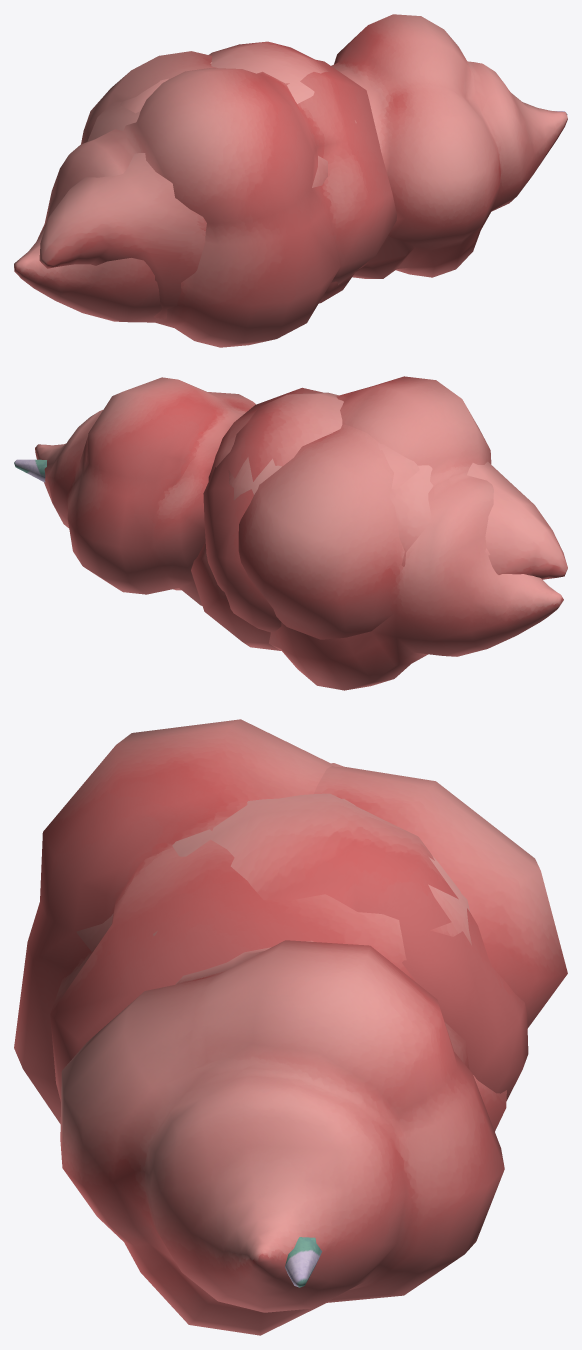
Rendered from stg1_cottoncloud.gltf.
3 views of the same model, one above another, from view 1: azimuth 30°, elevation 25°; view 2: azimuth 150°, elevation 25°; view 3: azimuth 270°, elevation 25° (orthographic). The views are drawn at different scales.
Parts seen in each view (by area): view 1: cottoncloud_GEO3, cottoncloud_GEO1, cottoncloud_GEO2; view 2: cottoncloud_GEO3, cottoncloud_GEO1, cottoncloud_GEO2; view 3: cottoncloud_GEO1, cottoncloud_GEO3, cottoncloud_GEO2.
Part boxes in pixels (left/top/right/bottom): cottoncloud_GEO3: left=14, top=51, right=567, bottom=347; cottoncloud_GEO1: left=39, top=14, right=567, bottom=319; cottoncloud_GEO2: left=64, top=62, right=212, bottom=196; cottoncloud_GEO3: left=14, top=376, right=563, bottom=690; cottoncloud_GEO1: left=35, top=377, right=567, bottom=632; cottoncloud_GEO2: left=228, top=432, right=490, bottom=555; cottoncloud_GEO1: left=60, top=793, right=528, bottom=1335; cottoncloud_GEO3: left=14, top=719, right=567, bottom=1287; cottoncloud_GEO2: left=331, top=763, right=471, bottom=945.
Bounding box in the file's own units: 1812 × 855 × 935.
Materials: 1 (1 with a texture image).
